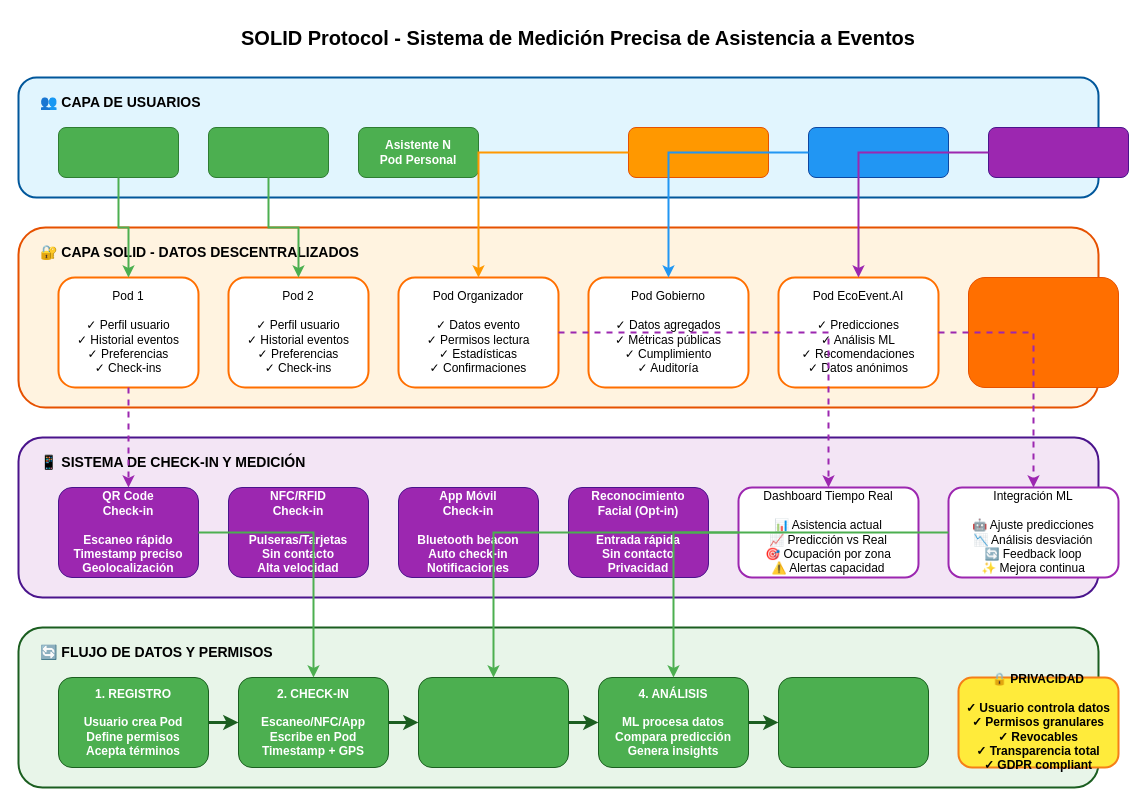
The diagram is 1146 pixels wide and 805 high, and some of its shapes have lost their labels. The shapes that lost their labels are listed below. From the top down, each one's box as (x1, y1, x2, y2) in pixels, then its label:
(58, 126, 178, 178): Asistente 1 Pod Personal
(208, 126, 328, 178): Asistente 2 Pod Personal
(628, 126, 768, 178): Organizador Pod Empresarial
(808, 126, 948, 178): Gobierno CDMX Pod Institucional
(988, 126, 1128, 178): EcoEvent.AI Pod Analítico
(968, 276, 1118, 388): SOLID SERVER (Descentralizado) Autenticación WebID Control de Acceso (ACL)
(418, 676, 568, 768): 3. AGREGACIÓN Contador anónimo Sin datos personales Solo estadísticas
(778, 676, 928, 768): 5. FEEDBACK Actualiza modelo Mejora precisión Reportes finales
